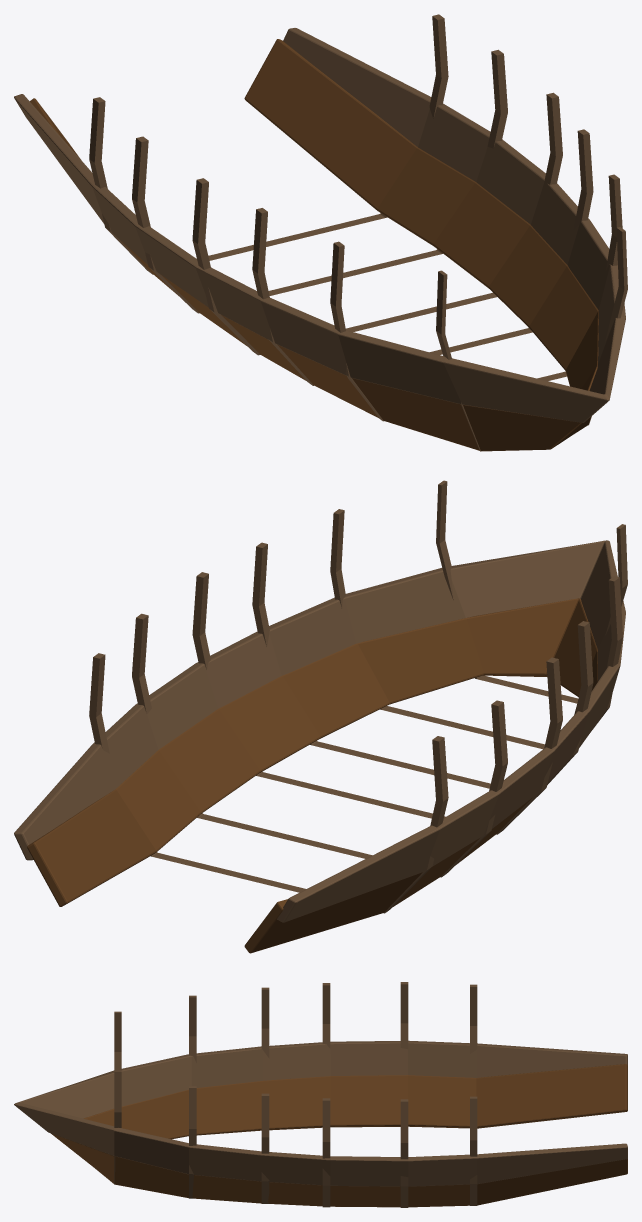
The model's file is Broken Boat 1.fbx.
3 renders of one model, top to bottom at view 1: azimuth 30°, elevation 25°; view 2: azimuth 150°, elevation 25°; view 3: azimuth 270°, elevation 25°, orthographic. The views are drawn at different scales.
Visible parts, largest first — view 1: Boat Main Shape.004, Boat Main Shape.003, Boat Main Shape.001; view 2: Boat Main Shape.004, Boat Main Shape.003, Boat Main Shape.001; view 3: Boat Main Shape.004, Boat Main Shape.003, Boat Main Shape.001.
Part boxes in pixels (left/top/right/bottom): Boat Main Shape.004: left=30, top=39, right=598, bottom=451; Boat Main Shape.003: left=14, top=28, right=625, bottom=422; Boat Main Shape.001: left=89, top=14, right=627, bottom=451; Boat Main Shape.004: left=27, top=598, right=597, bottom=953; Boat Main Shape.003: left=14, top=540, right=625, bottom=922; Boat Main Shape.001: left=89, top=480, right=627, bottom=913; Boat Main Shape.004: left=51, top=1064, right=627, bottom=1207; Boat Main Shape.003: left=14, top=1040, right=627, bottom=1186; Boat Main Shape.001: left=114, top=982, right=477, bottom=1207.
Size of the model in its own units: 285 by 136 by 605.
